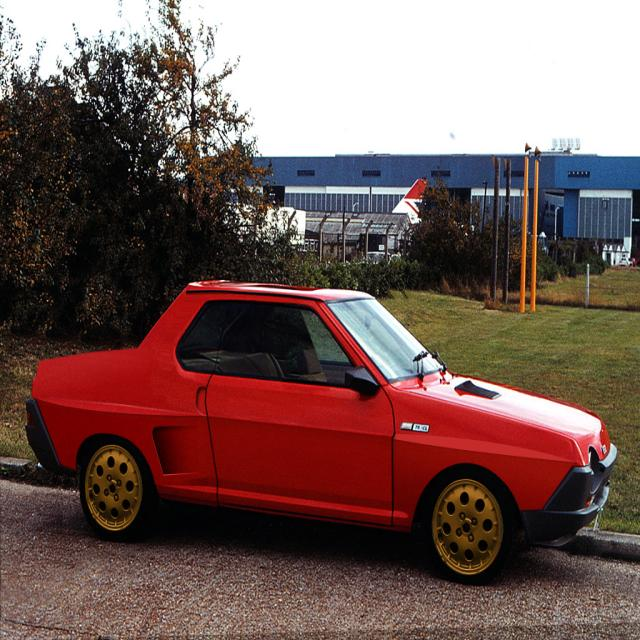car: (21, 273, 616, 585)
